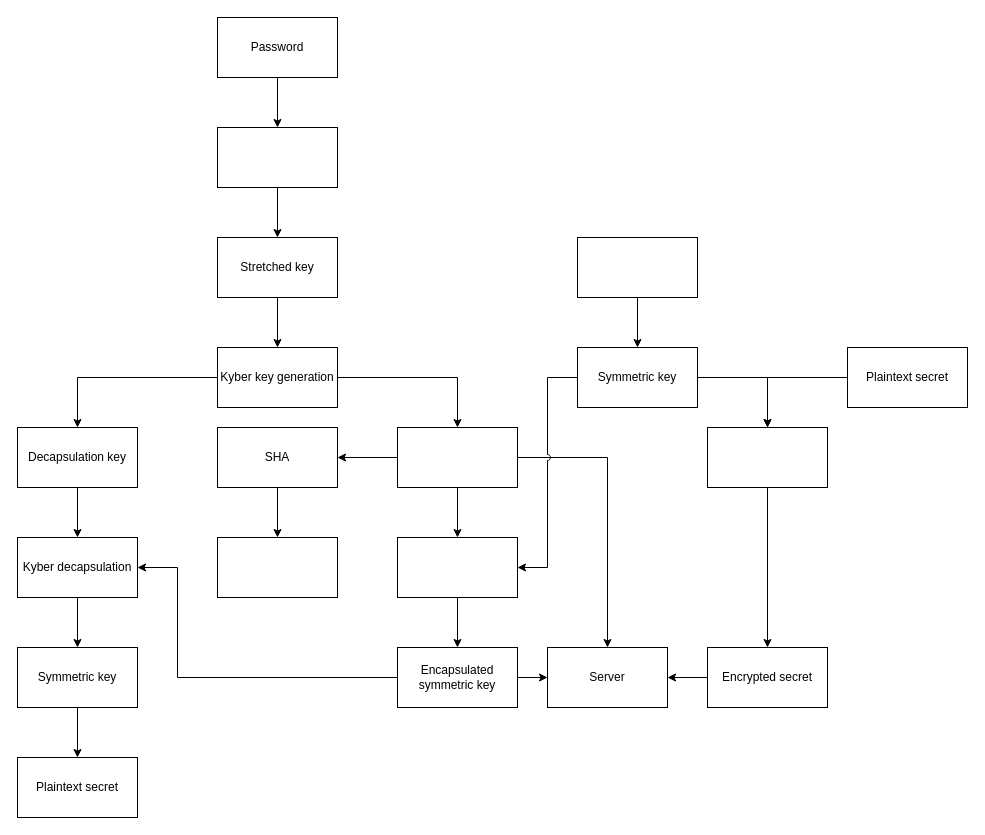
The diagram is 985 pixels wide and 835 high, and some of its shapes have lost their labels. The centre of each missing label's shape, as x and y in pixels:
"AES encryption" goes at (x=767, y=457).
"Encapsulation key" goes at (x=457, y=457).
"Encapsulation Key Fingerprint" goes at (x=277, y=567).
"KDF" goes at (x=277, y=157).
"Kyber encapsulation" goes at (x=457, y=567).
"RNG" goes at (x=637, y=267).
